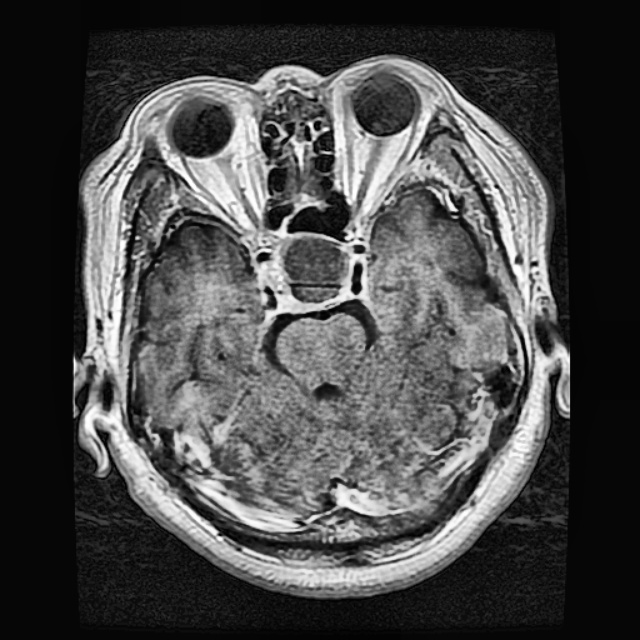Pituitary: (269, 230, 357, 313)
